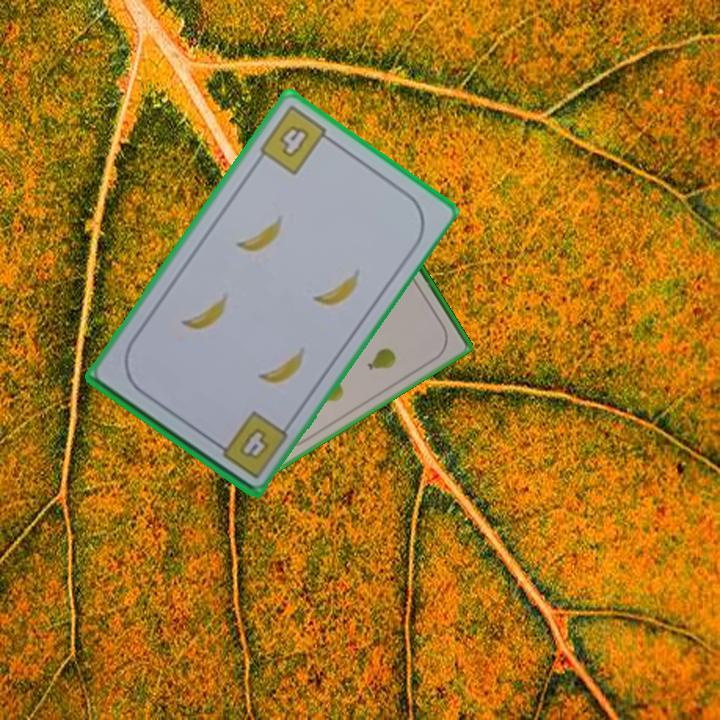4b: (255, 101, 337, 178), (209, 407, 291, 482)
